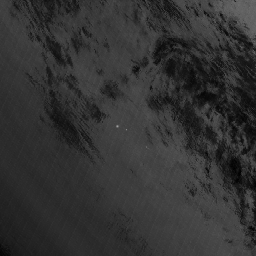Target: (114, 123, 120, 129)
